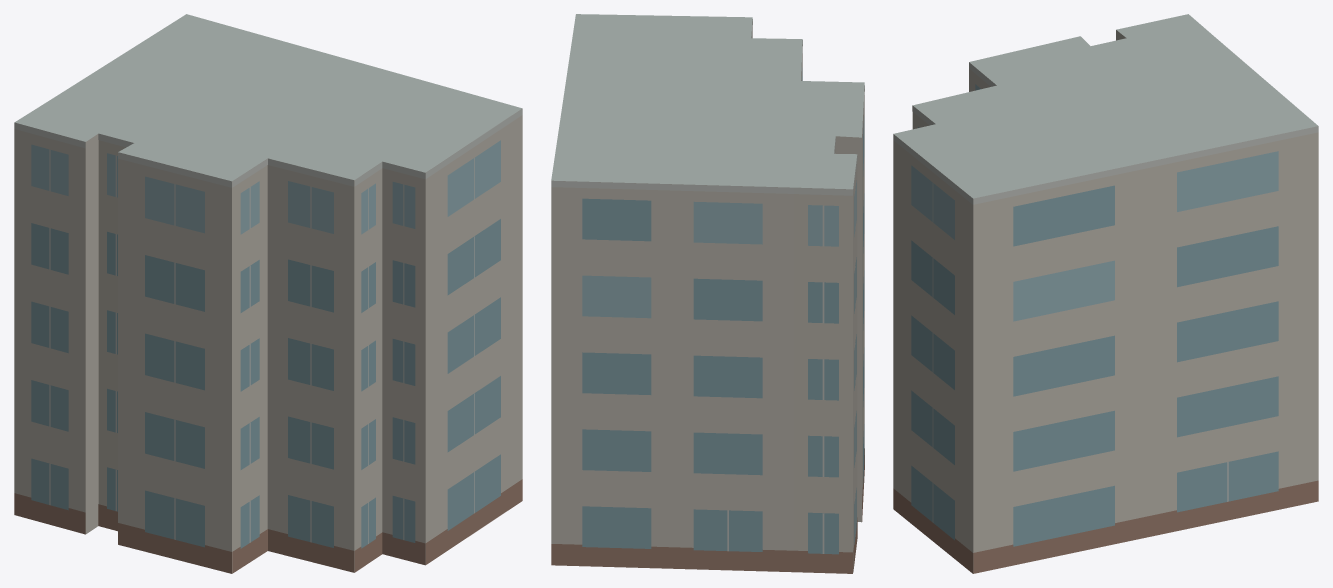
File: survey-upis-32717582.glb
The picture shows the model from 3 angles, left to right: view 1: azimuth 30°, elevation 25°; view 2: azimuth 150°, elevation 25°; view 3: azimuth 270°, elevation 25°; orthographic projection. The views are drawn at different scales.
Visible parts, largest first — view 1: survey-upis-32717582.tmp; view 2: survey-upis-32717582.tmp; view 3: survey-upis-32717582.tmp.
Boxes of the visible parts, x1=… form: survey-upis-32717582.tmp: x1=14, y1=14, x2=522, y2=573; survey-upis-32717582.tmp: x1=551, y1=14, x2=864, y2=573; survey-upis-32717582.tmp: x1=893, y1=14, x2=1318, y2=573.
Bounding box in the file's own units: 15.41 × 14.6 × 15.
